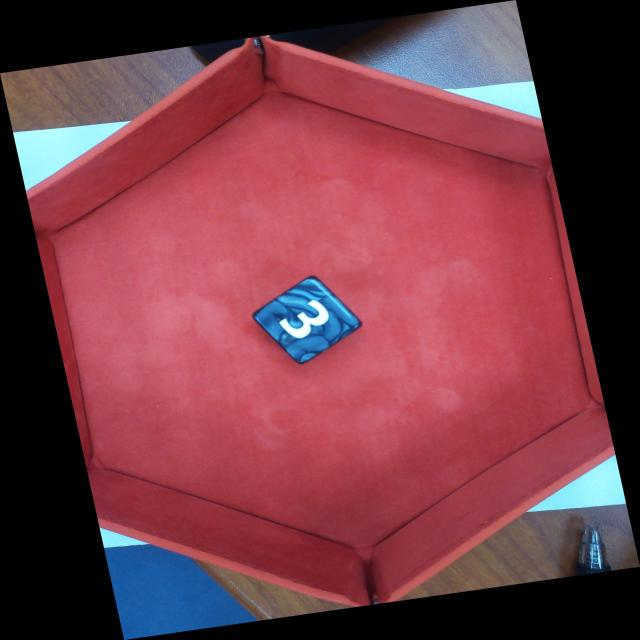dice: (250, 275, 364, 365)
